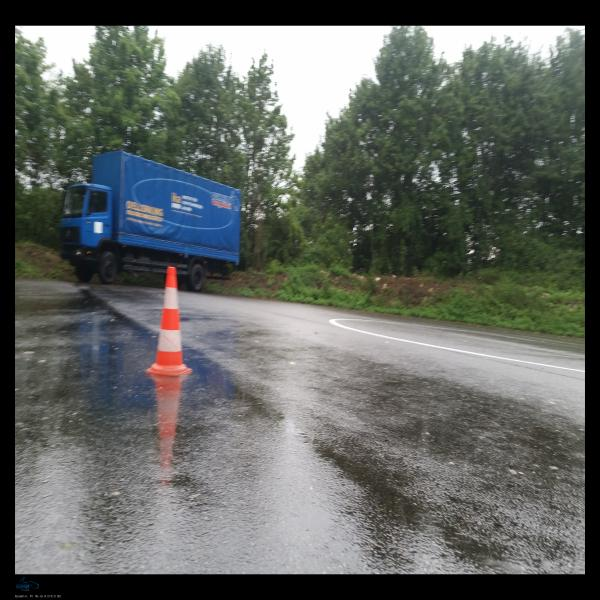large_orange_cone: (145, 266, 193, 376)
